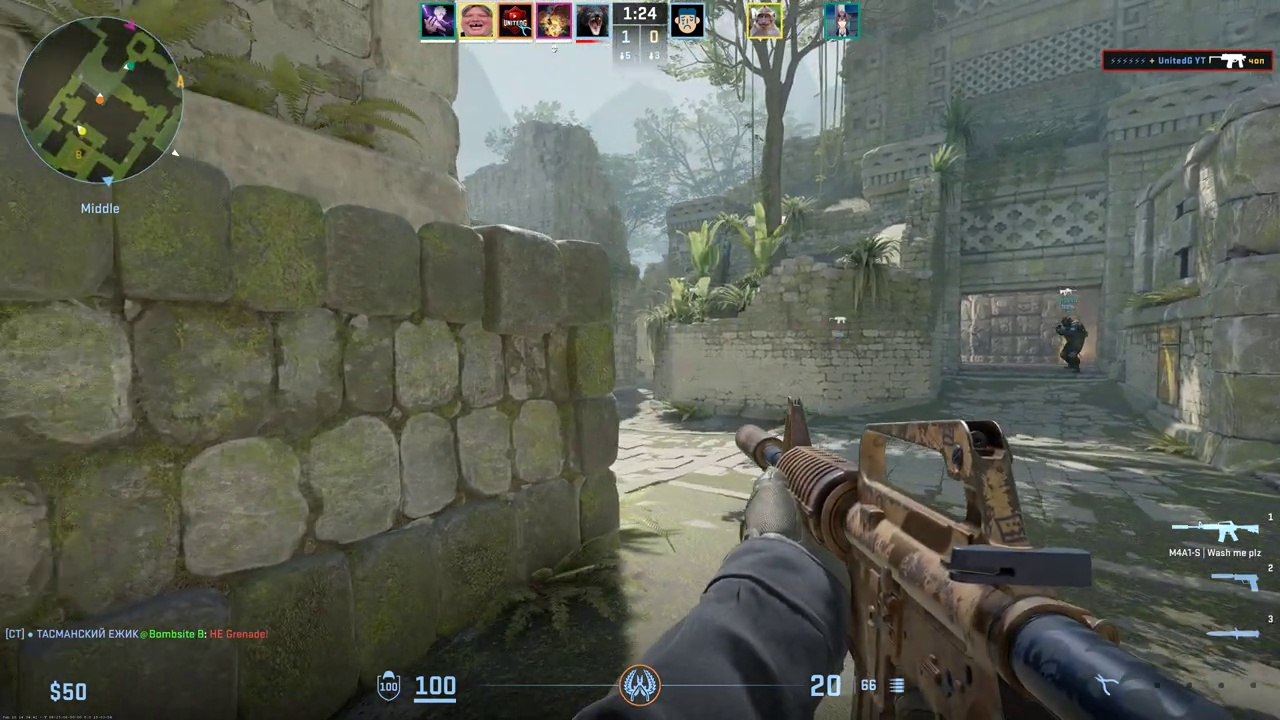CT: (1060, 317, 1085, 371)
